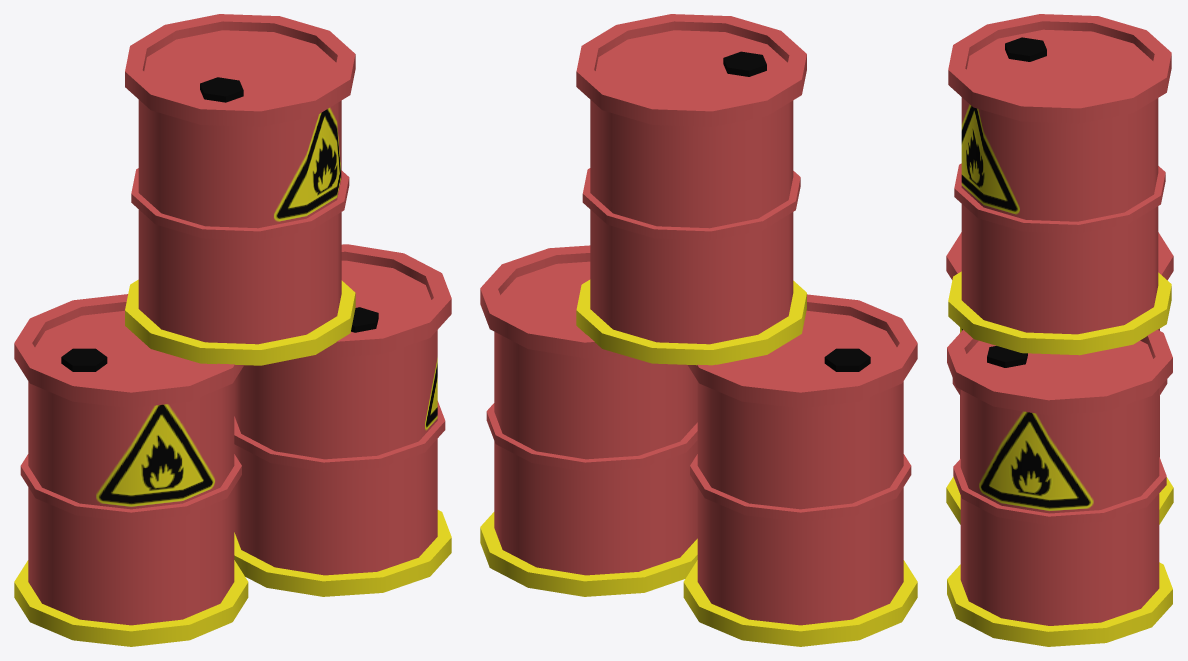
The model's file is barells_2_destroy.fbx.
3 renders of one model, left to right at view 1: azimuth 30°, elevation 25°; view 2: azimuth 150°, elevation 25°; view 3: azimuth 270°, elevation 25°, orthographic. The views are drawn at different scales.
Parts seen in each view (by area): view 1: barells_2_destroy.001, barells_2_destroy, barells_2_destroy.002; view 2: barells_2_destroy.001, barells_2_destroy, barells_2_destroy.002; view 3: barells_2_destroy.001, barells_2_destroy.002, barells_2_destroy.
Part boxes in pixels (bbox=[...]): barells_2_destroy.001: bbox=[125, 14, 355, 365]; barells_2_destroy: bbox=[14, 294, 248, 646]; barells_2_destroy.002: bbox=[234, 244, 451, 596]; barells_2_destroy.001: bbox=[576, 14, 806, 365]; barells_2_destroy: bbox=[683, 294, 917, 646]; barells_2_destroy.002: bbox=[480, 245, 697, 596]; barells_2_destroy.001: bbox=[948, 14, 1171, 355]; barells_2_destroy.002: bbox=[947, 329, 1172, 646]; barells_2_destroy: bbox=[946, 232, 1173, 524].
Size of the model in its own units: 239 by 286 by 119.
